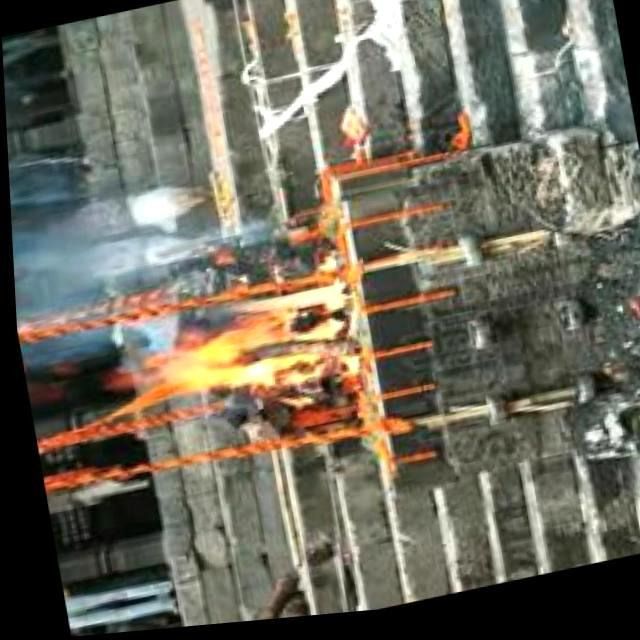fire: (120, 280, 362, 420)
